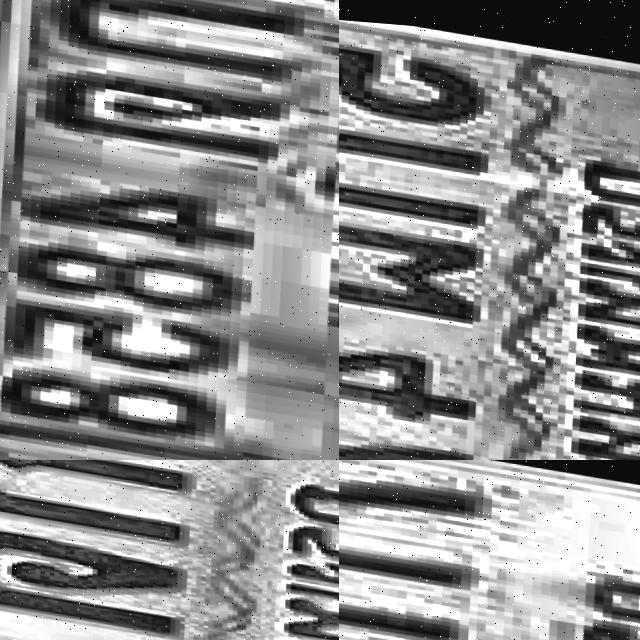license-plate: (0, 0, 339, 460), (339, 0, 640, 460), (0, 460, 339, 640), (339, 460, 640, 640)
